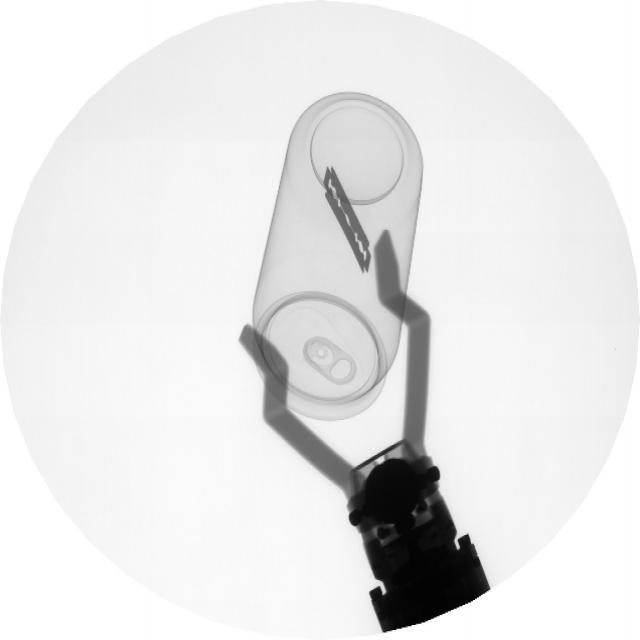BLADE: (319, 158, 378, 285)
